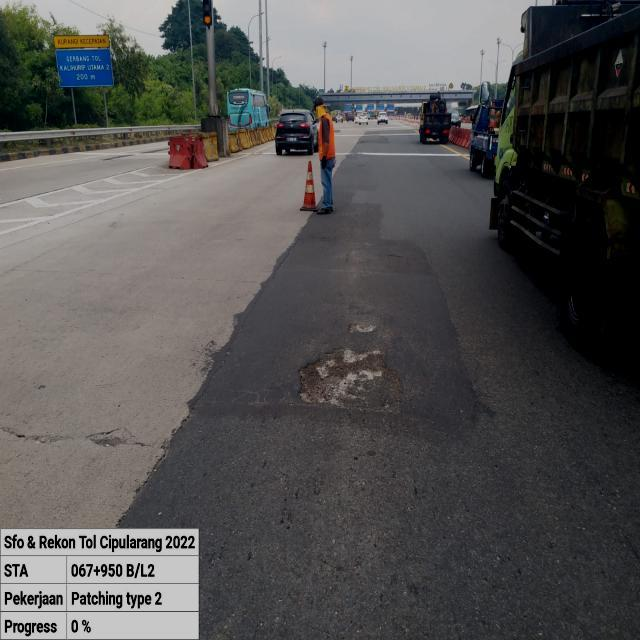Buraco: (292, 337, 408, 419), (83, 425, 151, 452), (343, 318, 382, 336)
